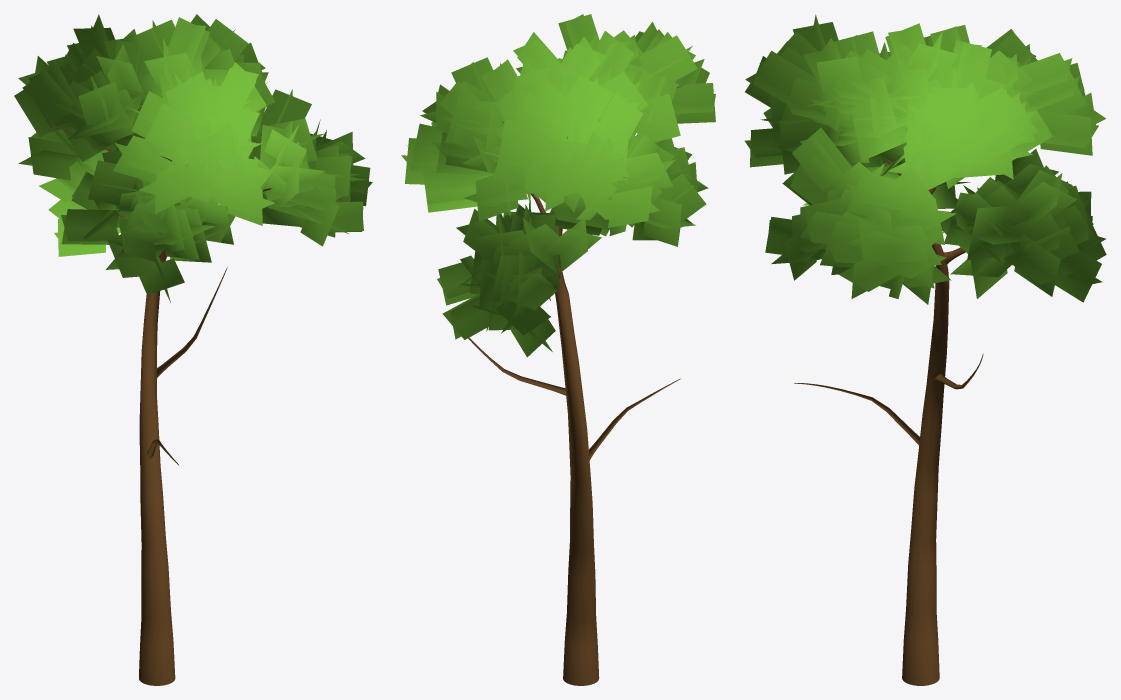
File: SM_tree_standard_03.fbx
3 views of the same model, side by side, from view 1: azimuth 30°, elevation 25°; view 2: azimuth 150°, elevation 25°; view 3: azimuth 270°, elevation 25° (orthographic). The views are drawn at different scales.
Visible parts, largest first — view 1: tree008; view 2: tree008; view 3: tree008.
Part boxes in pixels (<box>): tree008: <box>14,14,372,685</box>; tree008: <box>401,14,715,685</box>; tree008: <box>744,14,1106,685</box>.
Size of the model in its own units: 265 by 556 by 275.
